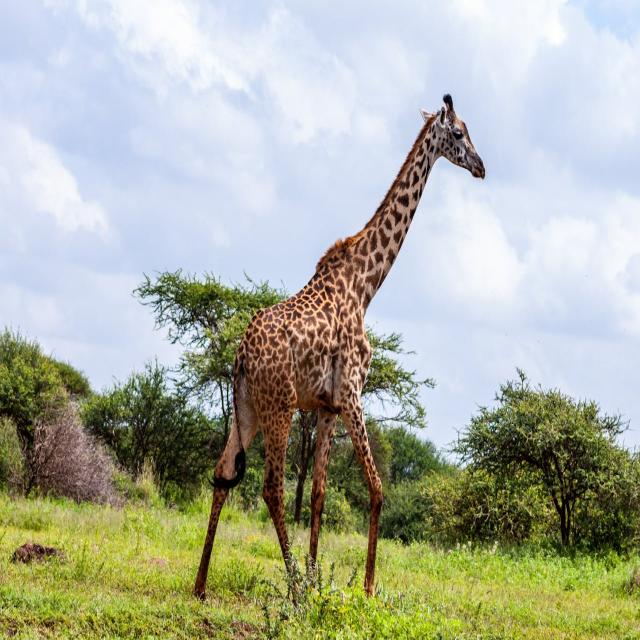Giraffe: (190, 90, 486, 605)
